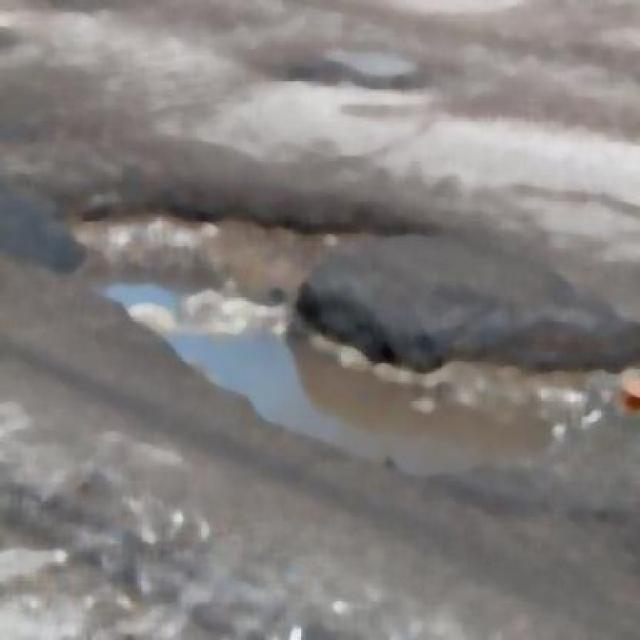Pothole: (87, 203, 638, 440)
